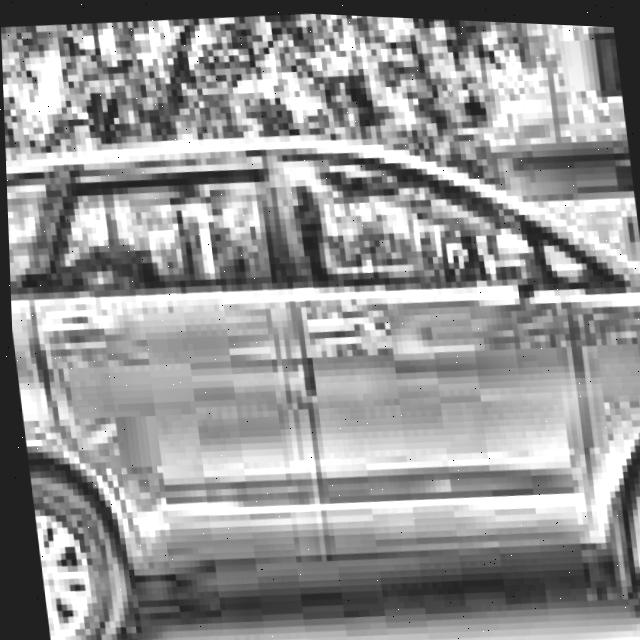light_vehicle: (3, 87, 640, 640)
